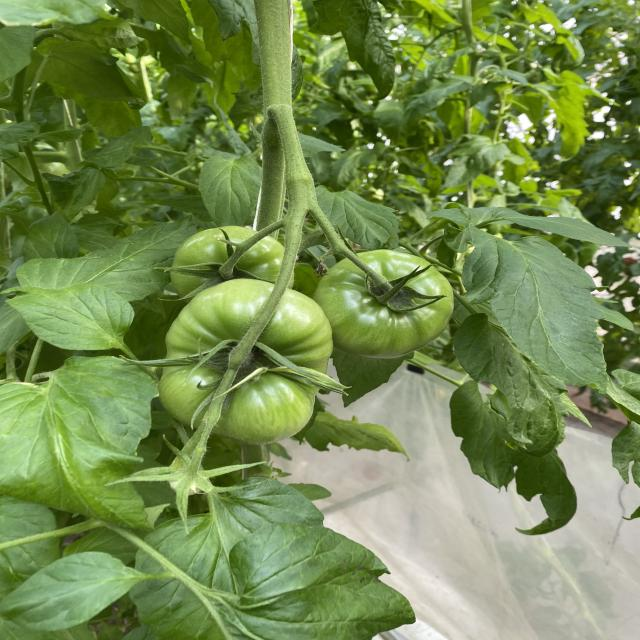yesil: (144, 195, 455, 440)
